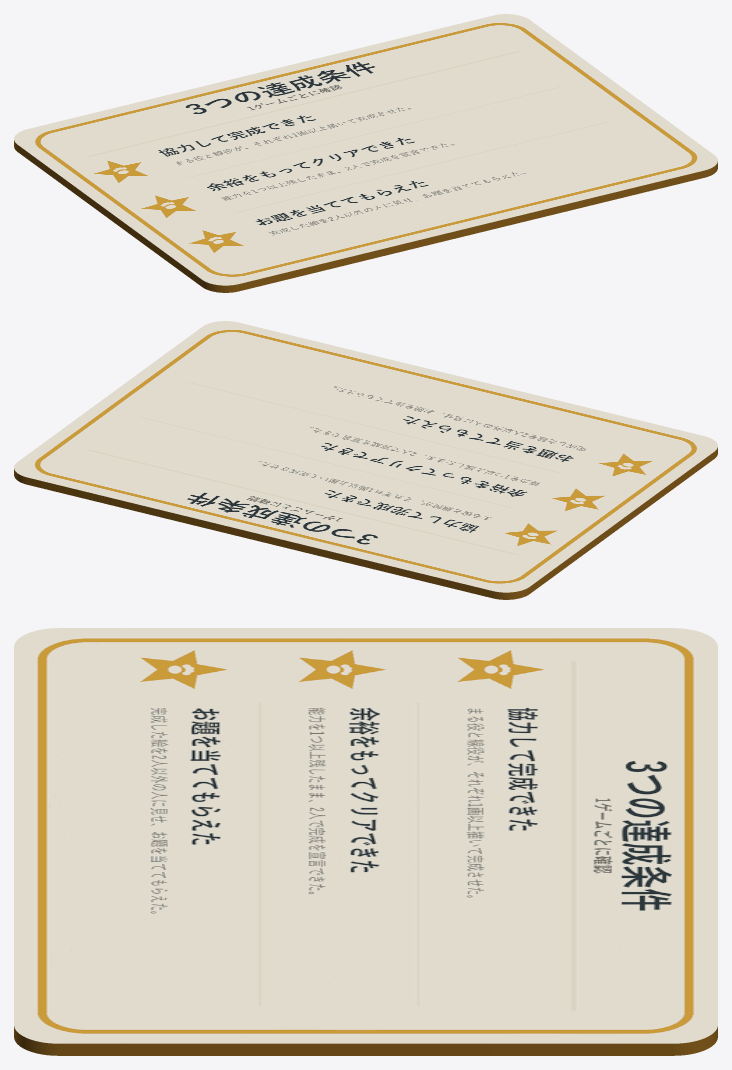
The model's file is achievement_card.glb.
3 views of the same model, one above another, from view 1: azimuth 30°, elevation 25°; view 2: azimuth 150°, elevation 25°; view 3: azimuth 270°, elevation 25° (orthographic). The views are drawn at different scales.
Visible parts, largest first — view 1: achievement_card; view 2: achievement_card; view 3: achievement_card.
Boxes of the visible parts, x1,y1,x2,y2 form: achievement_card: (14, 14, 717, 292); achievement_card: (14, 321, 717, 599); achievement_card: (14, 628, 717, 1055).
Bounding box in the file's own units: 0.088 × 0.0012 × 0.063.
Materials: 3 (2 with a texture image).
